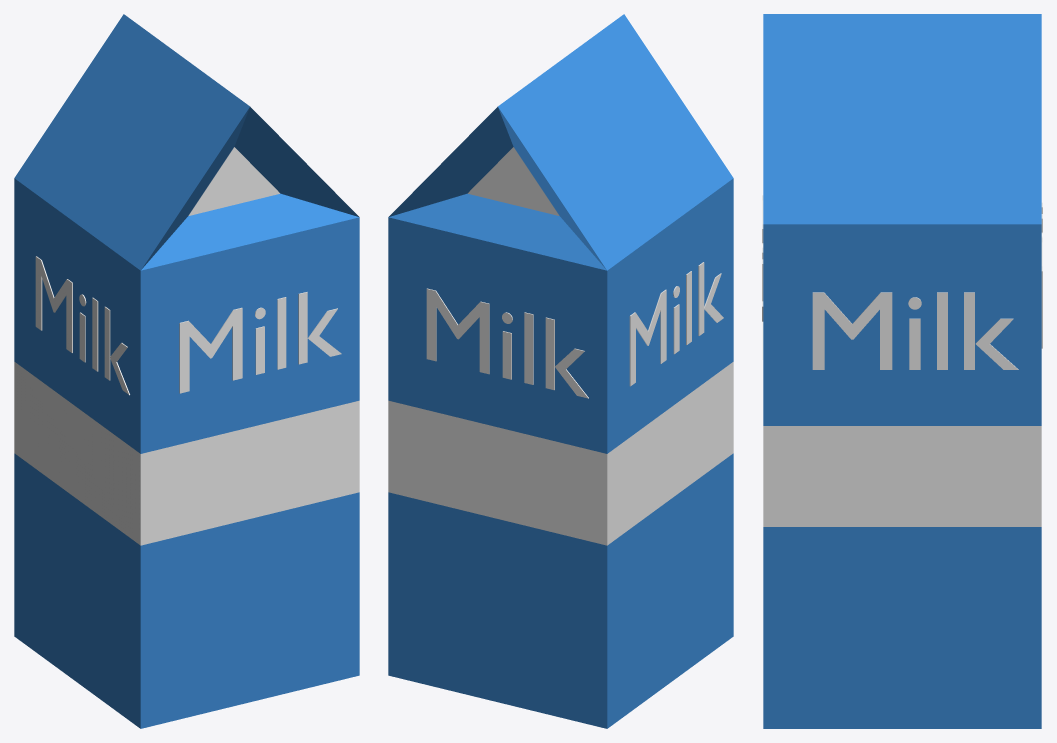
Rendered from danis_karlson_milk.glb.
3 renders of one model, left to right at view 1: azimuth 30°, elevation 25°; view 2: azimuth 150°, elevation 25°; view 3: azimuth 270°, elevation 25°, orthographic. The views are drawn at different scales.
Parts seen in each view (by area): view 1: Cube; view 2: Cube; view 3: Cube.
Part boxes in pixels (left/top/right/bottom): Cube: left=14, top=14, right=359, bottom=728; Cube: left=388, top=14, right=733, bottom=728; Cube: left=762, top=14, right=1042, bottom=728.
Size of the model in its own units: 0.504 by 1.3 by 0.504.
